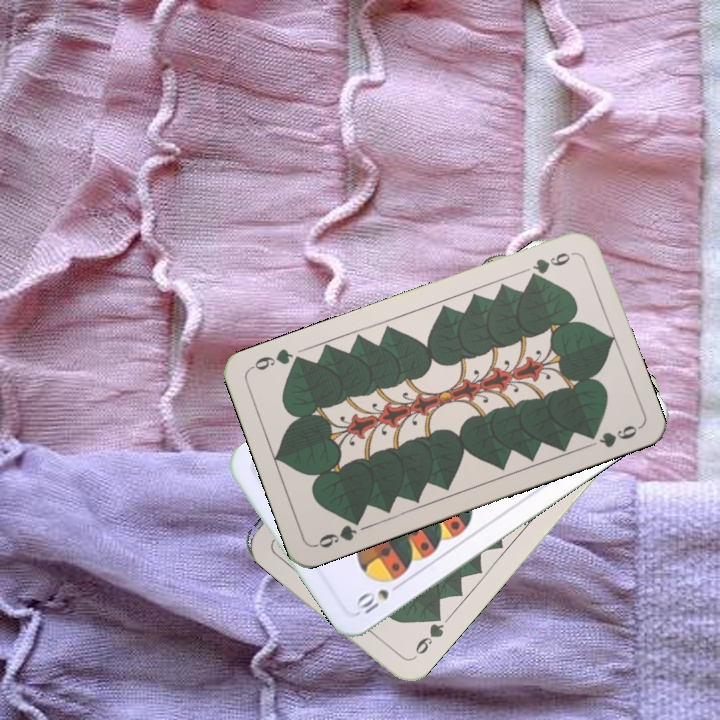G9: (311, 513, 364, 551), (525, 247, 577, 282), (411, 609, 447, 658)
S10: (352, 585, 392, 617)
